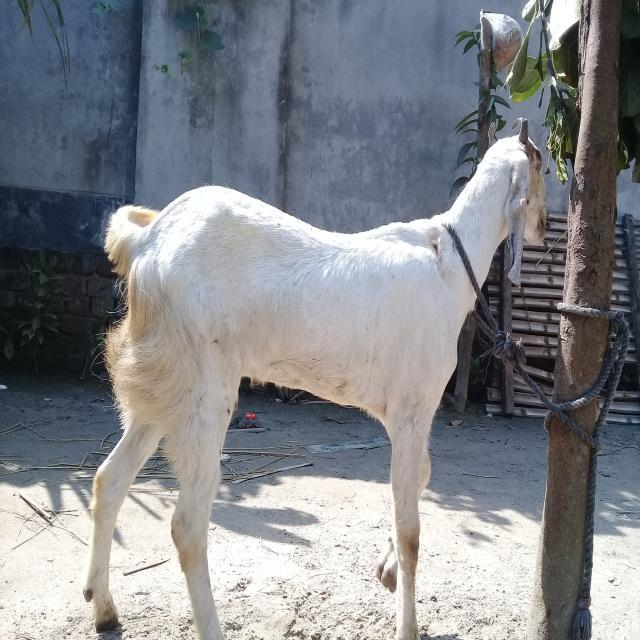Goat: (82, 115, 548, 639)
